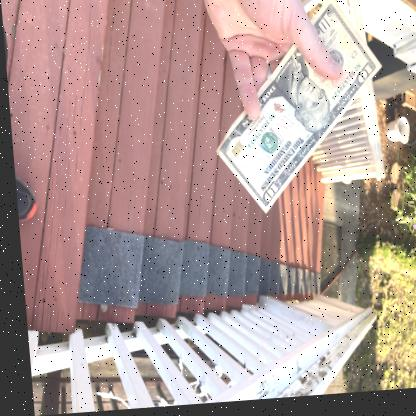ten-front: (211, 0, 379, 218)
